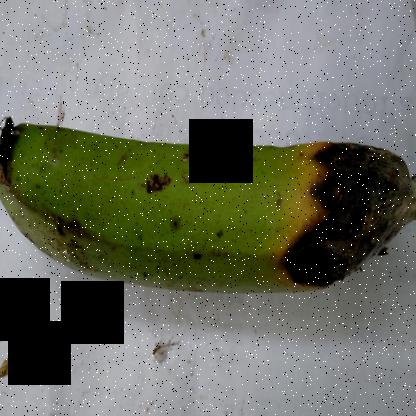rotten: (277, 131, 415, 326), (0, 95, 28, 222)
